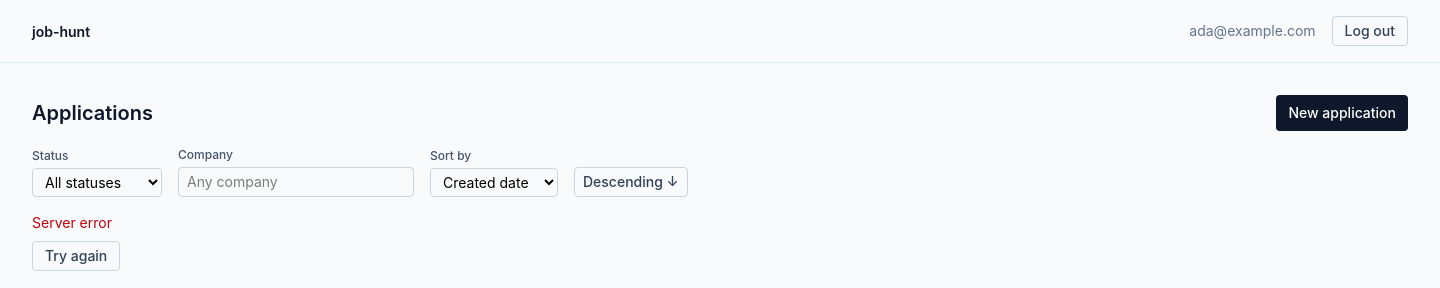
Test case: ApplicationsPage › shows an error with a working retry
Expected: the message reads "Server error", [32, 214, 112, 231]
Click the button "Try again" at coordinates (76, 256), box [32, 241, 120, 271]
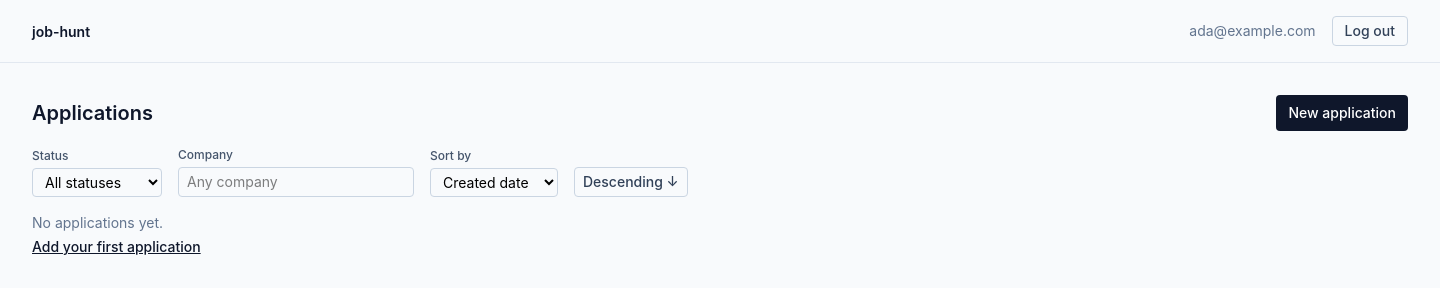
Result: the text "No applications yet." is shown at [32, 214, 163, 231]
